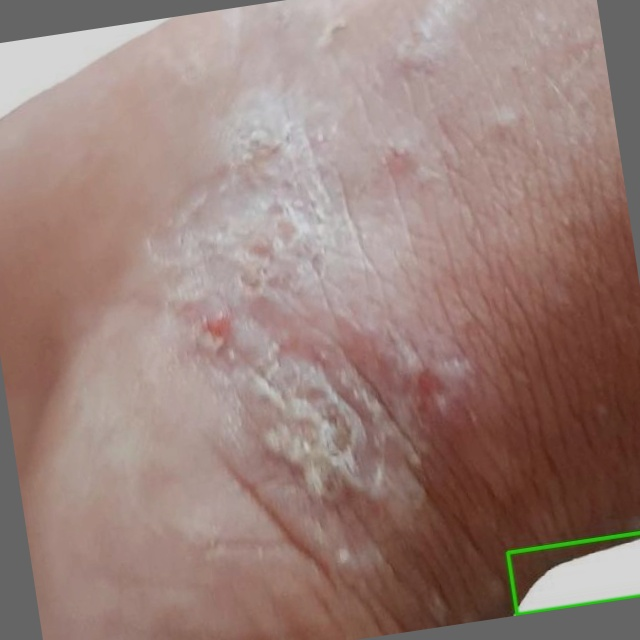Scabies: (507, 532, 639, 614)
